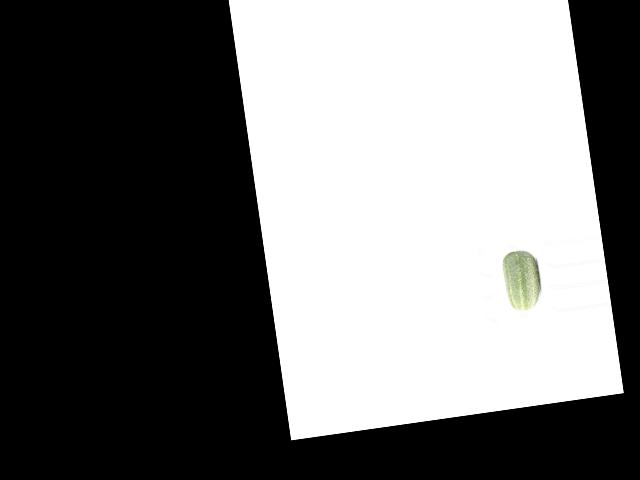cucumber: (500, 247, 543, 312)
